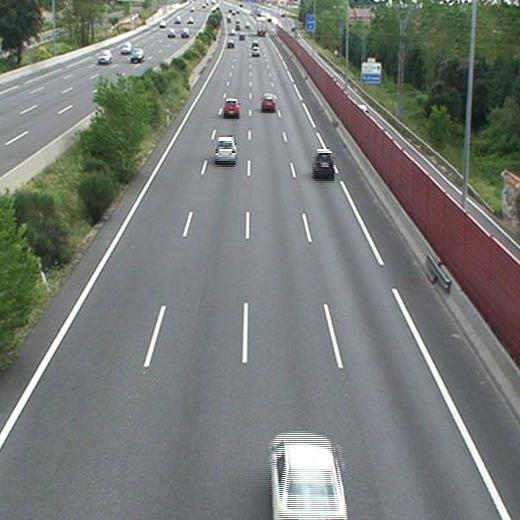car: (271, 435, 347, 520), (313, 150, 334, 174), (216, 136, 236, 161), (224, 100, 239, 114), (262, 95, 275, 110), (251, 47, 259, 57), (226, 40, 234, 47)
